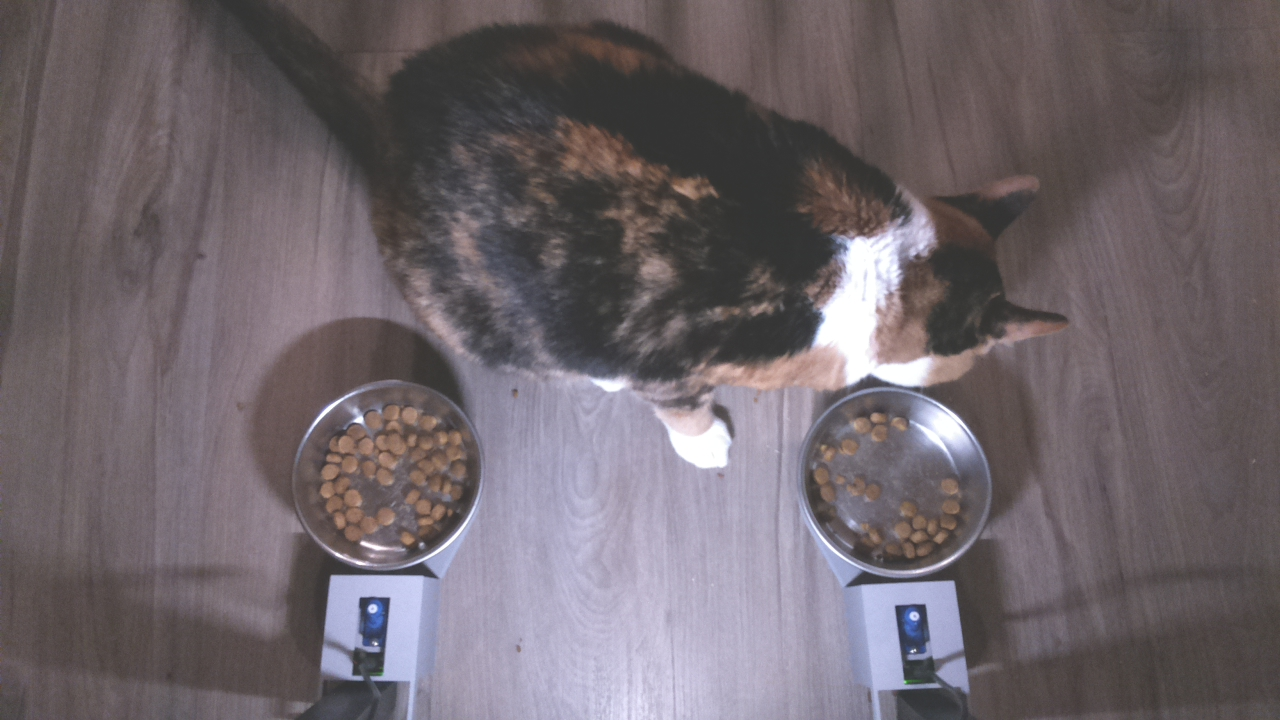bella: (832, 146, 1069, 400)
open_bowl: (286, 377, 486, 573), (793, 386, 995, 578)
